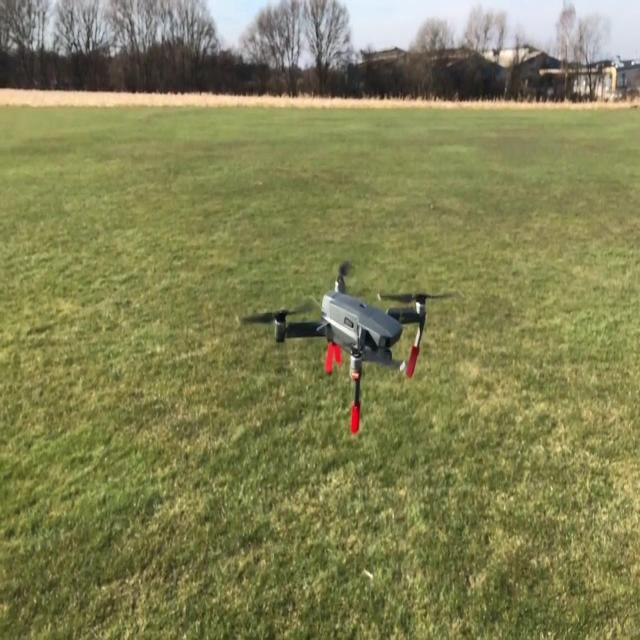drone: (240, 258, 448, 435)
